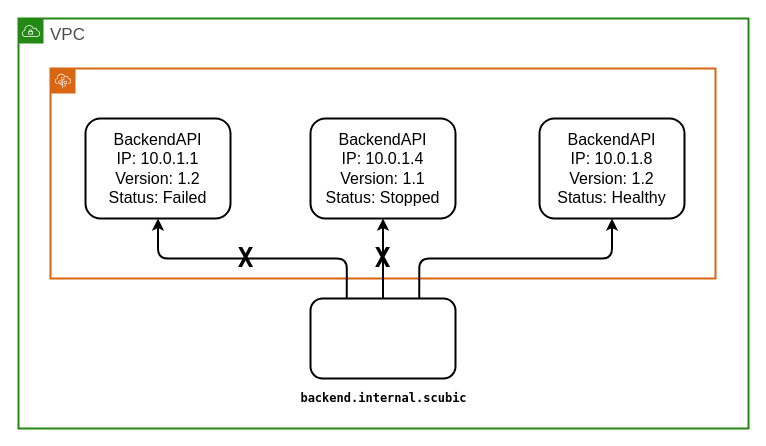
This 766x446 diagram has some shape labels left out. The shapes that lost their labels are listed below. From the top down, each one's box as (x1, y1, x2, y2) in pixels, then its label:
(49, 67, 716, 279): ECS Cluster
(309, 297, 456, 379): Backend API Load Balancer
